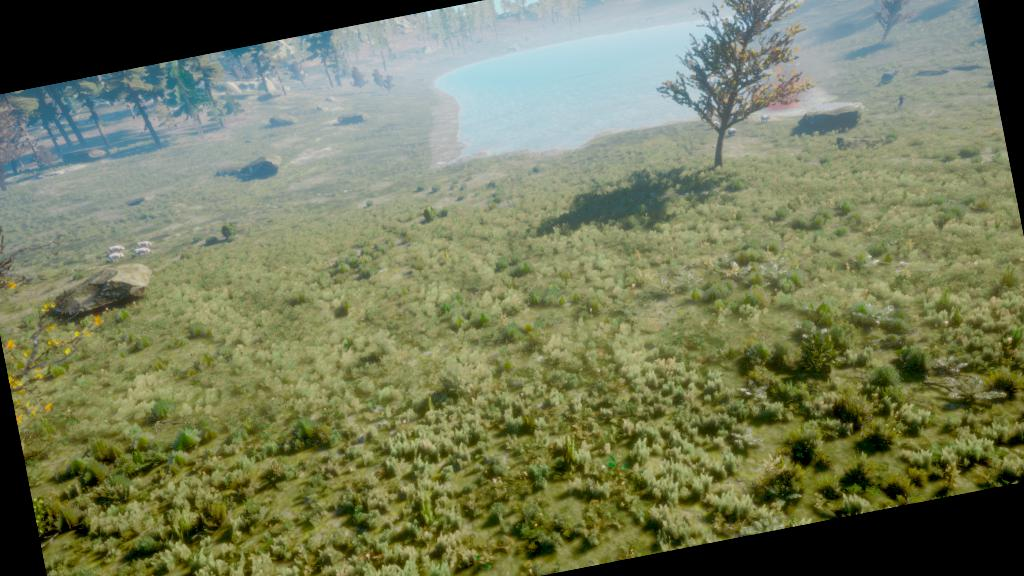elephant: (880, 68, 900, 83)
human: (898, 94, 904, 108)
pig: (132, 244, 154, 260), (134, 237, 155, 251), (106, 243, 126, 256), (106, 252, 126, 264)
